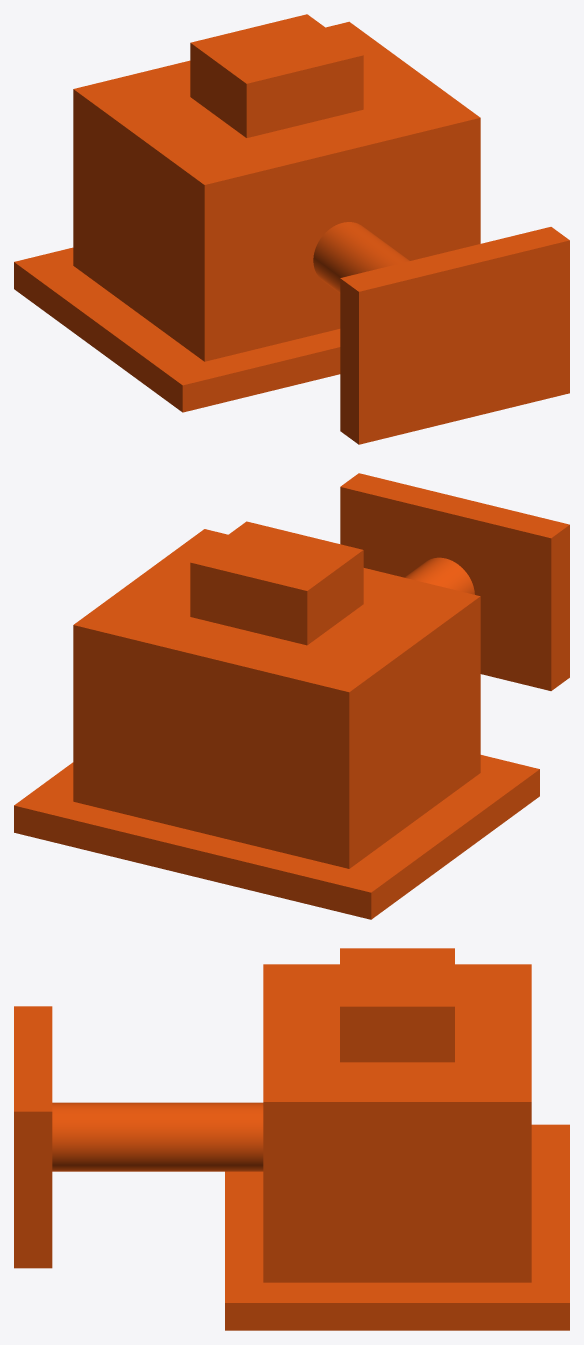
The model's file is SOL-PUSH.glb.
The picture shows the model from 3 angles, top to bottom: view 1: azimuth 30°, elevation 25°; view 2: azimuth 150°, elevation 25°; view 3: azimuth 270°, elevation 25°; orthographic projection. The views are drawn at different scales.
Parts seen in each view (by area): view 1: SOL-PUSH; view 2: SOL-PUSH; view 3: SOL-PUSH.
Boxes of the visible parts, box(x1,y1,x2,y2) form: SOL-PUSH: box(14, 14, 569, 444); SOL-PUSH: box(14, 473, 569, 919); SOL-PUSH: box(14, 948, 569, 1330).
Bounding box in the file's own units: 0.11 × 0.076 × 0.145.
